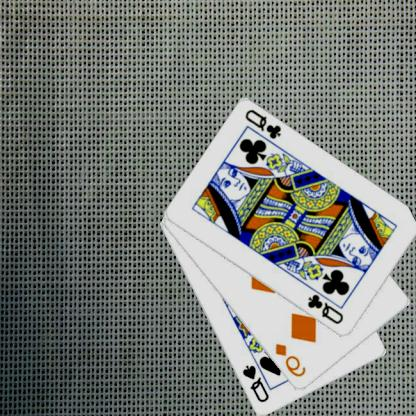6D: (274, 340, 309, 379)
QC: (306, 292, 347, 326), (244, 107, 285, 141)
QS: (241, 362, 273, 404)
